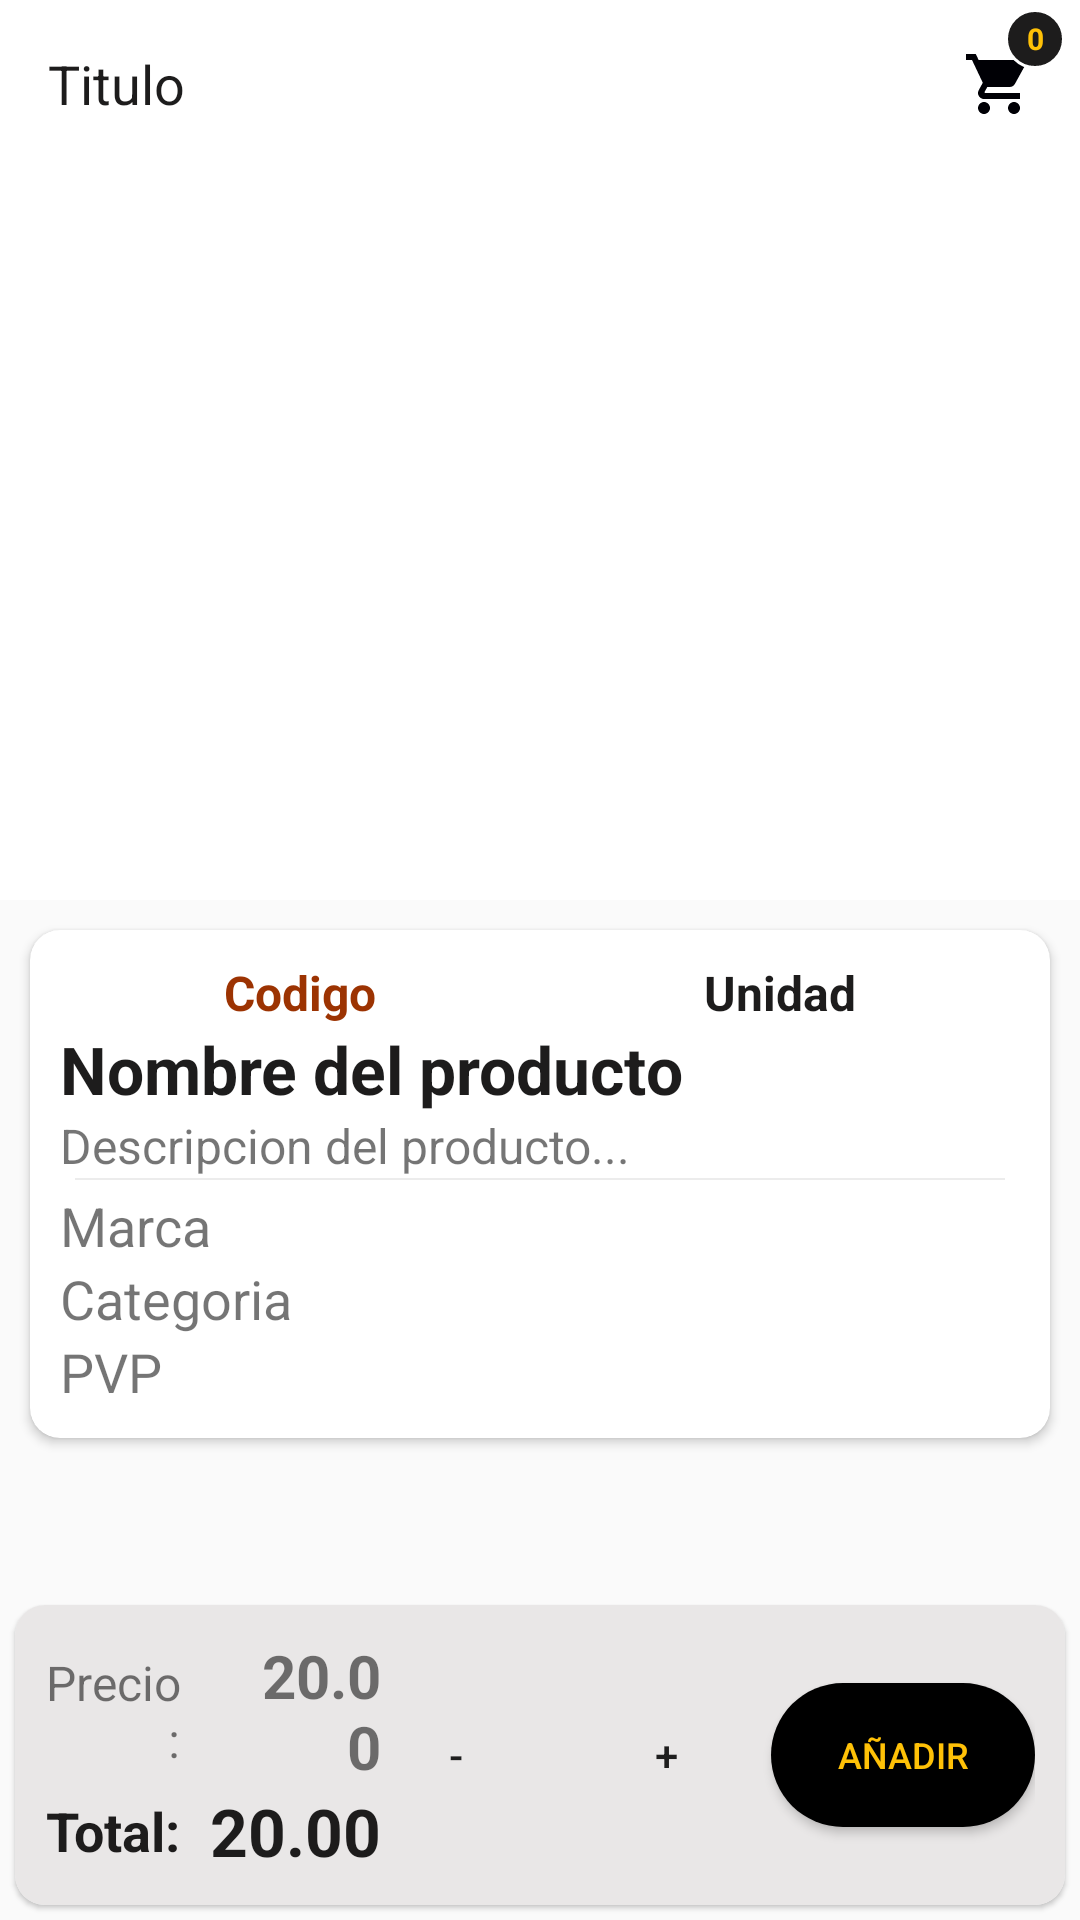

Icons on this 1080w x 1920h Android screen, each with the point to tap as (x=x, y=y):
shop: (x=995, y=84)
